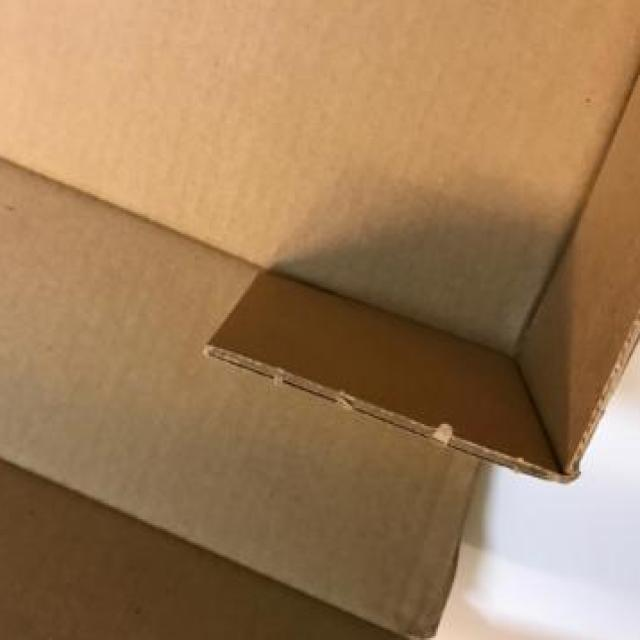organic: (5, 13, 631, 623)
